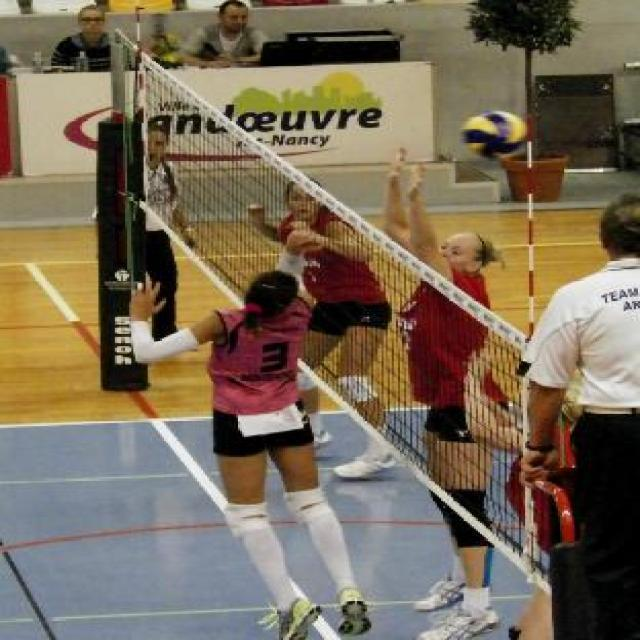volleyball: (460, 110, 528, 158)
